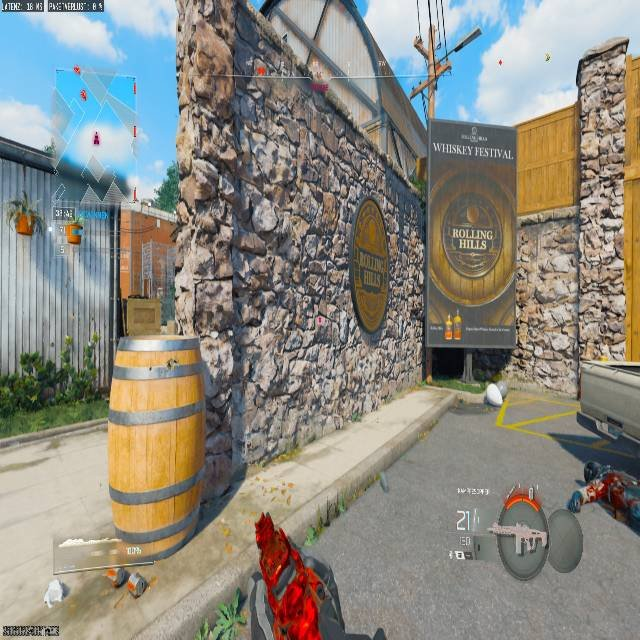head: (582, 460, 603, 482)
